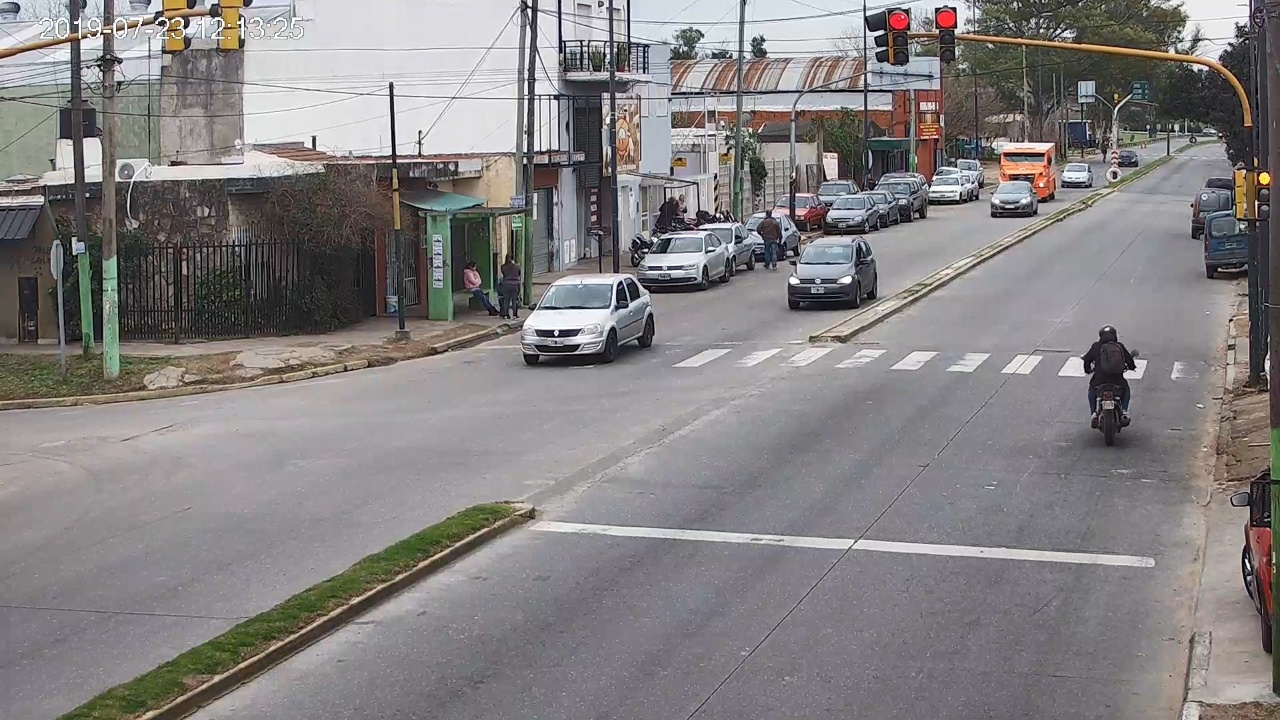motorcycle: (1080, 348, 1139, 445)
traffic light: (890, 8, 909, 64), (937, 8, 957, 61), (1257, 169, 1270, 219)
